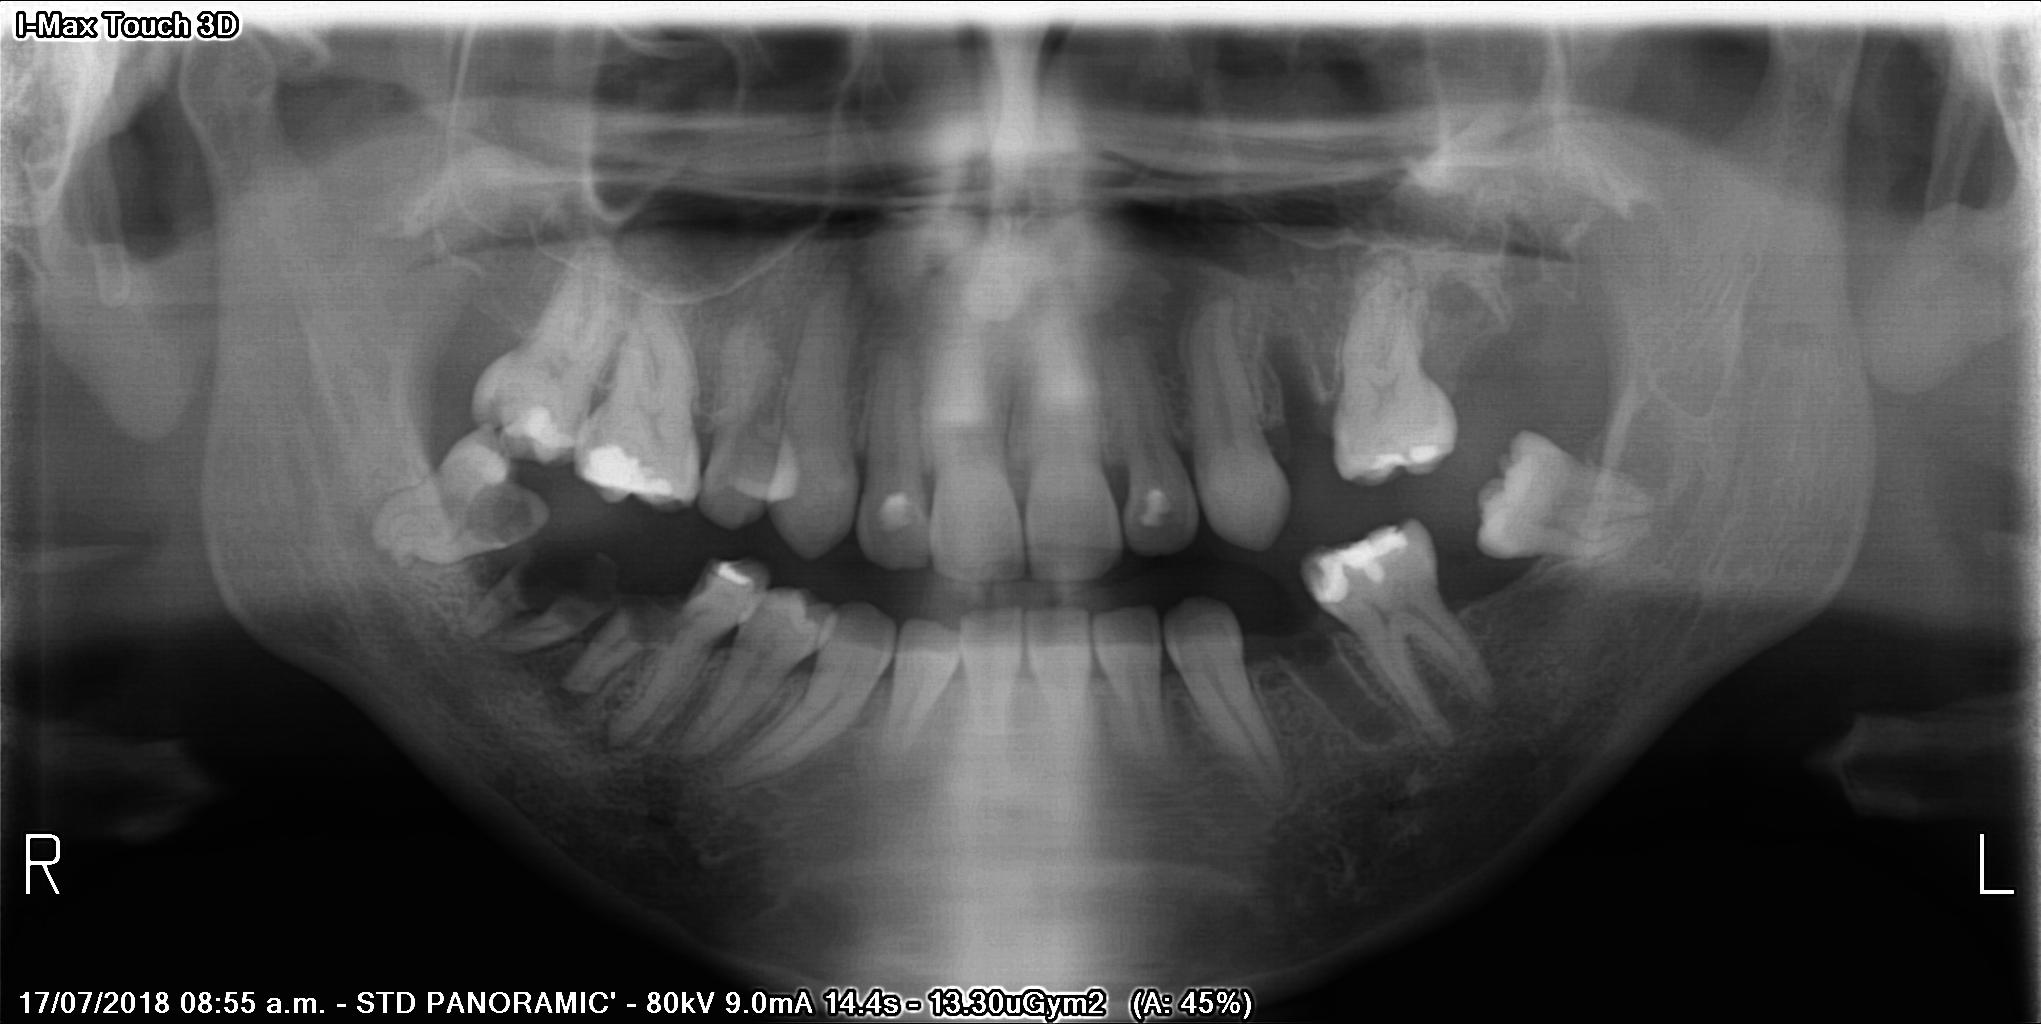Çürük: (1298, 528, 1416, 613), (578, 439, 675, 508), (496, 404, 588, 460), (867, 474, 925, 545), (1372, 439, 1453, 479), (1130, 477, 1182, 536), (708, 547, 756, 602)
Çürük Bölgesi: (461, 474, 547, 552), (522, 551, 606, 630), (627, 585, 697, 654), (1290, 551, 1332, 594), (484, 393, 520, 423)
